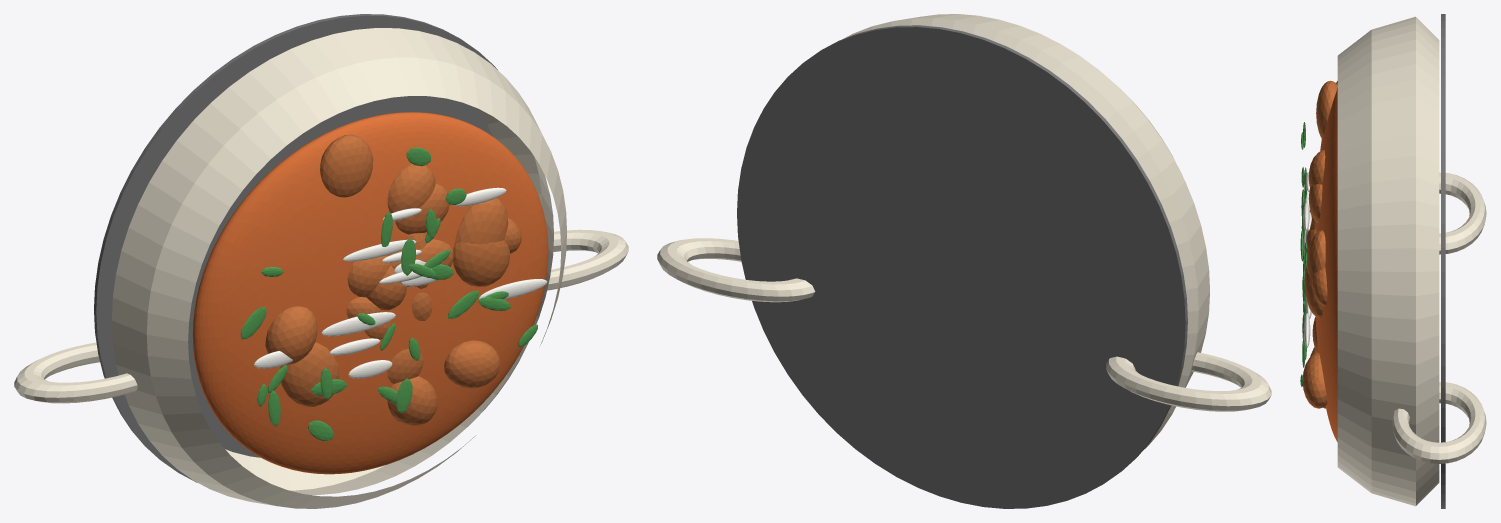
Rendered from butter_chicken_ar_approximation.glb.
The picture shows the model from 3 angles, left to right: view 1: azimuth 30°, elevation 25°; view 2: azimuth 150°, elevation 25°; view 3: azimuth 270°, elevation 25°; orthographic projection. The views are drawn at different scales.
Parts seen in each view (by area): view 1: Curry, Ceramic bowl, Base, Handle -1, Handle 1, Chicken 8, Chicken 17, Chicken 9, Chicken 14, Chicken 10, Chicken 11, Chicken 6 (+8 smaller); view 2: Base, Ceramic bowl, Handle -1, Handle 1; view 3: Ceramic bowl, Curry, Handle 1, Base, Handle -1, Chicken 14, Chicken 8, Chicken 11, Chicken 6, Chicken 4, Chicken 9, Chicken 5.
Boxes of the visible parts, <box> form: Curry: <box>192,112,548,474</box>; Ceramic bowl: <box>111,28,566,508</box>; Base: <box>94,14,497,482</box>; Handle -1: <box>14,342,137,403</box>; Handle 1: <box>547,229,628,290</box>; Chicken 8: <box>320,134,373,197</box>; Chicken 17: <box>265,306,317,365</box>; Chicken 9: <box>453,240,510,287</box>; Chicken 14: <box>444,340,500,388</box>; Chicken 10: <box>280,342,339,406</box>; Chicken 11: <box>454,198,508,244</box>; Chicken 6: <box>387,164,435,213</box>; Base: <box>737,25,1187,508</box>; Ceramic bowl: <box>844,14,1209,450</box>; Handle -1: <box>1106,352,1271,411</box>; Handle 1: <box>657,238,815,302</box>; Ceramic bowl: <box>1337,16,1439,506</box>; Curry: <box>1315,81,1337,441</box>; Handle 1: <box>1392,382,1486,463</box>; Base: <box>1441,14,1445,508</box>; Handle -1: <box>1439,172,1486,254</box>; Chicken 14: <box>1303,353,1327,408</box>; Chicken 8: <box>1316,80,1337,139</box>; Chicken 11: <box>1306,230,1325,278</box>; Chicken 6: <box>1308,150,1325,187</box>; Chicken 4: <box>1312,267,1327,306</box>; Chicken 9: <box>1304,264,1323,317</box>; Chicken 5: <box>1308,184,1322,222</box>.
Size of the model in its own units: 5.15 by 3.8 by 1.43.
